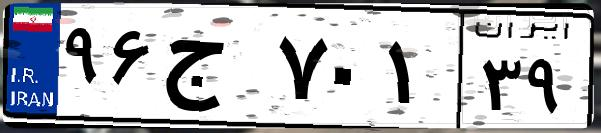0: (330, 28, 385, 110)
1: (385, 28, 445, 110)
3: (475, 38, 525, 113)
6: (110, 28, 158, 98)
7: (270, 28, 330, 110)
9: (57, 26, 110, 100), (525, 38, 570, 115)
ج: (158, 20, 270, 120)
